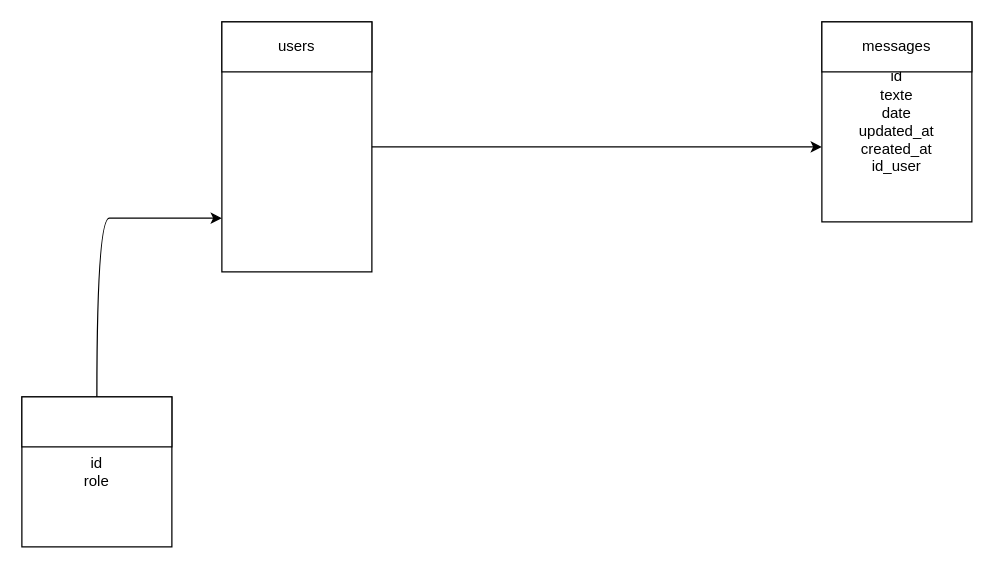
Some shapes in this 994 by 569 pixel diagram are drawn without their labels. The shapes that lost their labels are listed below. From the top down, each one's box as (x1, y1, x2, y2) in pixels, then its label:
(221, 21, 372, 272): id pseudo mail password image id_role
(21, 396, 172, 447): role
